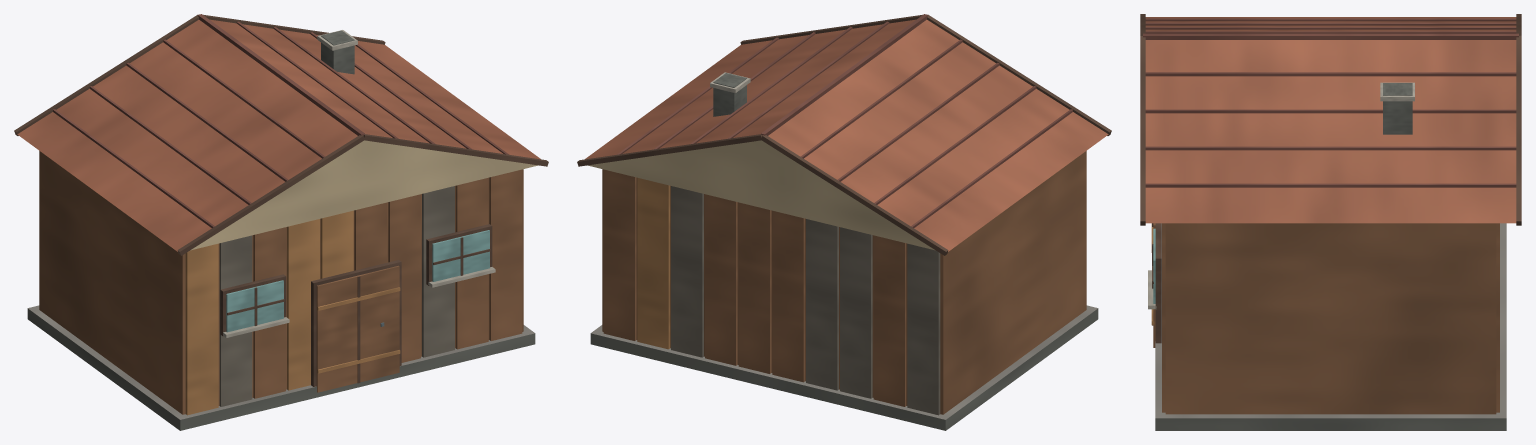
Rendered from house_wood_medium.fbx.
3 views of the same model, side by side, from view 1: azimuth 30°, elevation 25°; view 2: azimuth 150°, elevation 25°; view 3: azimuth 270°, elevation 25° (orthographic). The views are drawn at different scales.
Parts seen in each view (by area): view 1: house_wood_medium; view 2: house_wood_medium; view 3: house_wood_medium.
Part boxes in pixels (bbox=[...]): house_wood_medium: bbox=[14, 14, 548, 430]; house_wood_medium: bbox=[577, 14, 1111, 430]; house_wood_medium: bbox=[1140, 14, 1521, 430].
Bounding box in the file's own units: 900 × 600 × 700.
2 materials, 2 textured.
